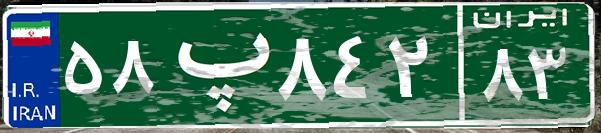2: (385, 28, 445, 110)
3: (525, 38, 570, 115)
4: (330, 28, 385, 110)
5: (57, 26, 110, 107)
8: (273, 28, 330, 110), (475, 38, 525, 113), (110, 28, 158, 105)
پ: (158, 15, 273, 115)
